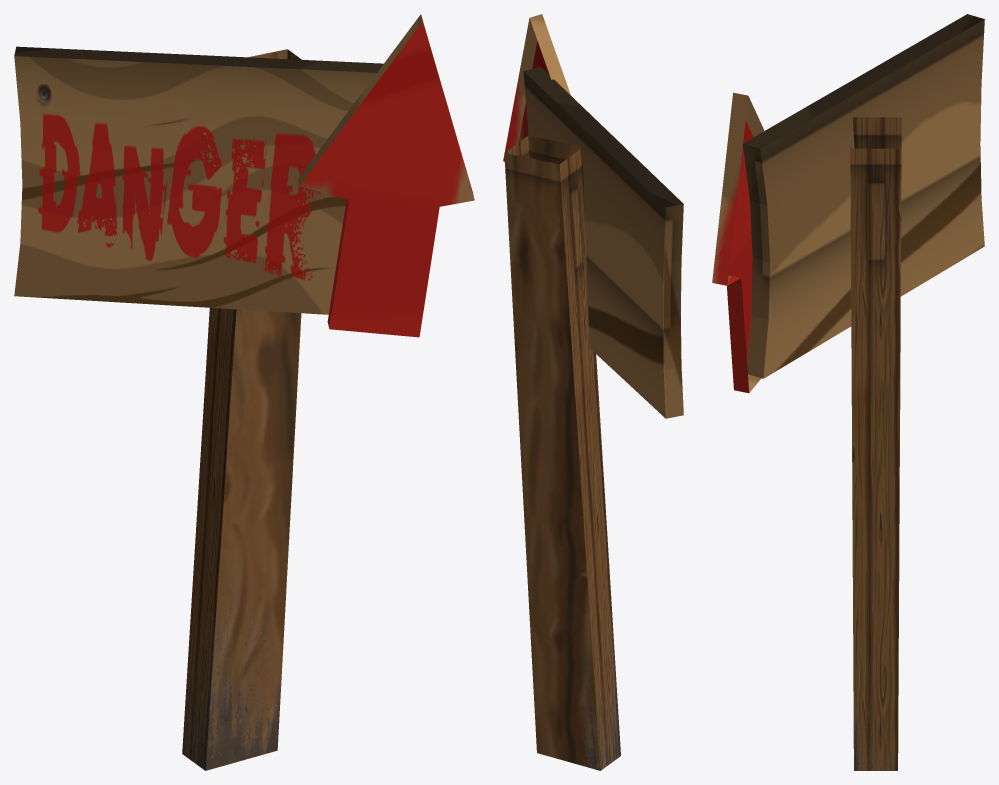
Rendered from DangerSignUp.FBX.
The picture shows the model from 3 angles, left to right: view 1: azimuth 30°, elevation 25°; view 2: azimuth 150°, elevation 25°; view 3: azimuth 270°, elevation 25°; orthographic projection. The views are drawn at different scales.
Visible parts, largest first — view 1: Object001; view 2: Object001; view 3: Object001.
Part boxes in pixels (x1=…): Object001: x1=14, y1=14, x2=474, y2=770; Object001: x1=503, y1=14, x2=683, y2=770; Object001: x1=712, y1=14, x2=984, y2=770.
Bounding box in the file's own units: 0.9945 × 2.17 × 0.7471.
1 material, 1 textured.
